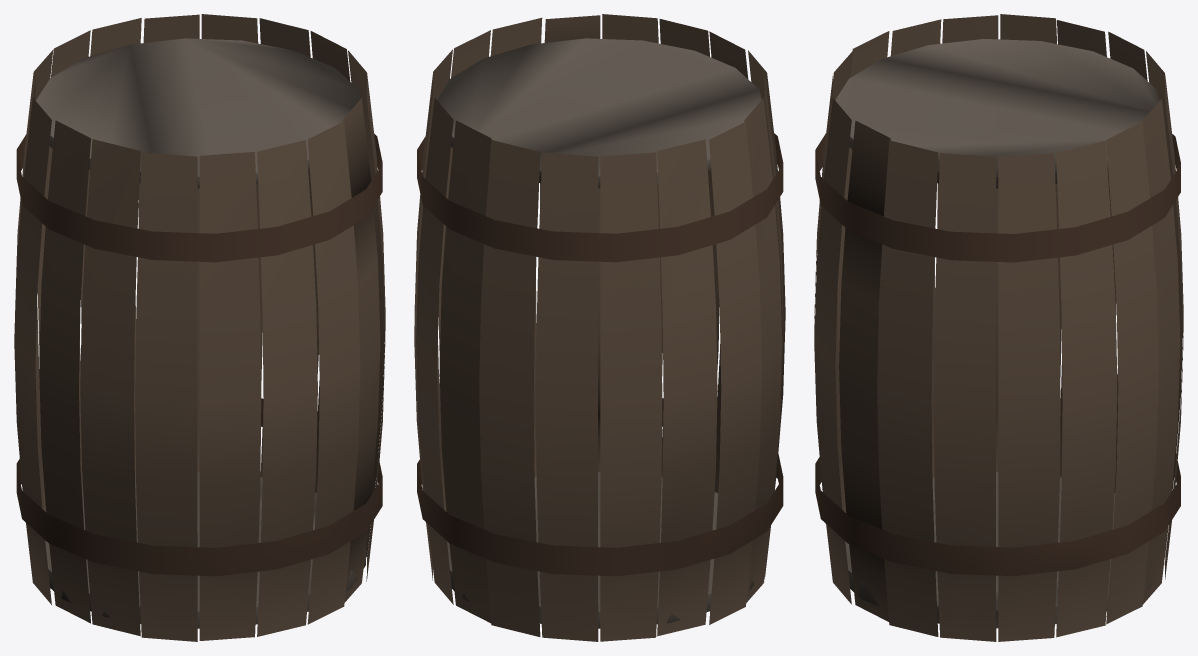
Rendered from prop.barrel.mo.glb.
The picture shows the model from 3 angles, left to right: view 1: azimuth 30°, elevation 25°; view 2: azimuth 150°, elevation 25°; view 3: azimuth 270°, elevation 25°; orthographic projection.
Visible parts, largest first — view 1: LOD0; view 2: LOD0; view 3: LOD0.
Boxes of the visible parts, left/top/right/bottom form: LOD0: left=14, top=14, right=385, bottom=641; LOD0: left=414, top=14, right=785, bottom=641; LOD0: left=814, top=14, right=1183, bottom=641.
Size of what is drawn, in the model's own units: 0.5987 by 0.85 by 0.5875.
